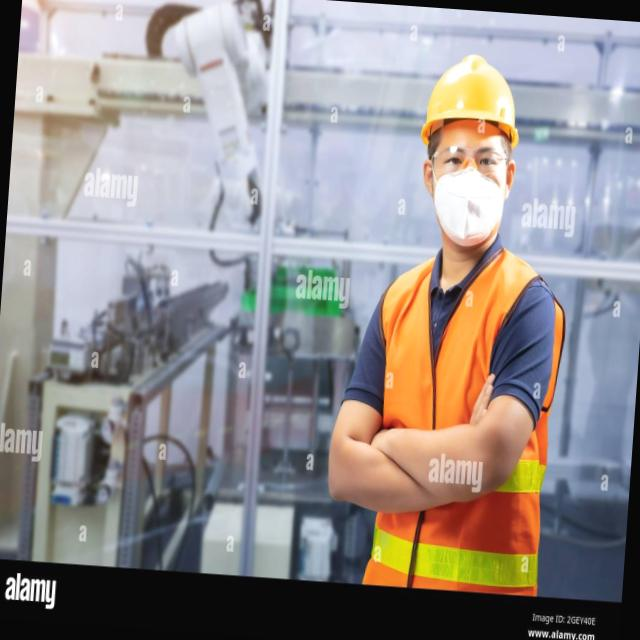goggles: (421, 134, 518, 184)
helmet: (418, 45, 528, 158)
vest: (346, 242, 574, 599)
